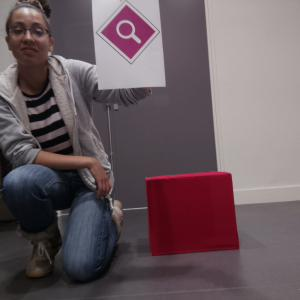search: (98, 1, 162, 66)
